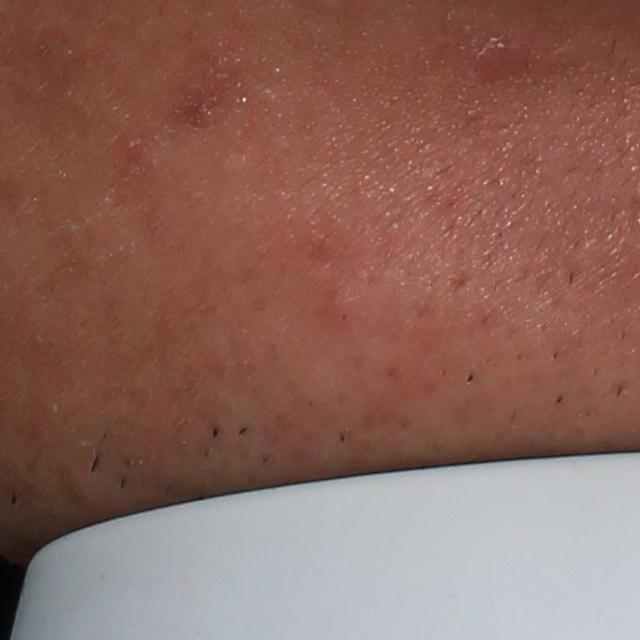papule: (458, 15, 537, 79)
